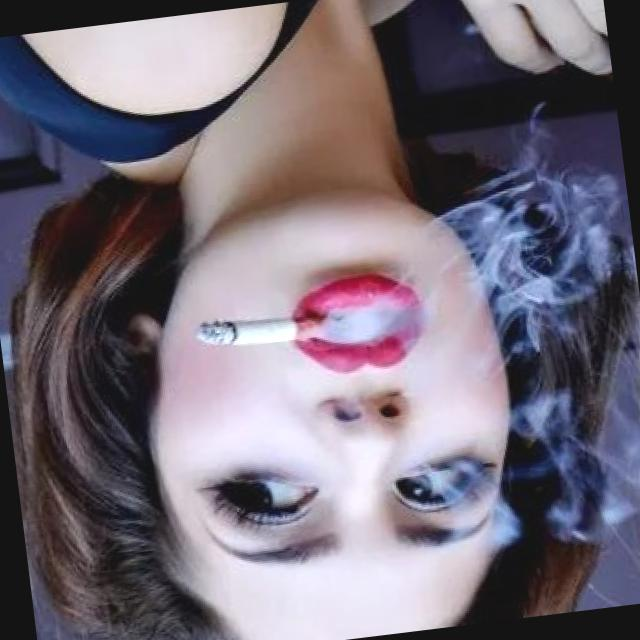cigarette: (195, 302, 326, 351)
